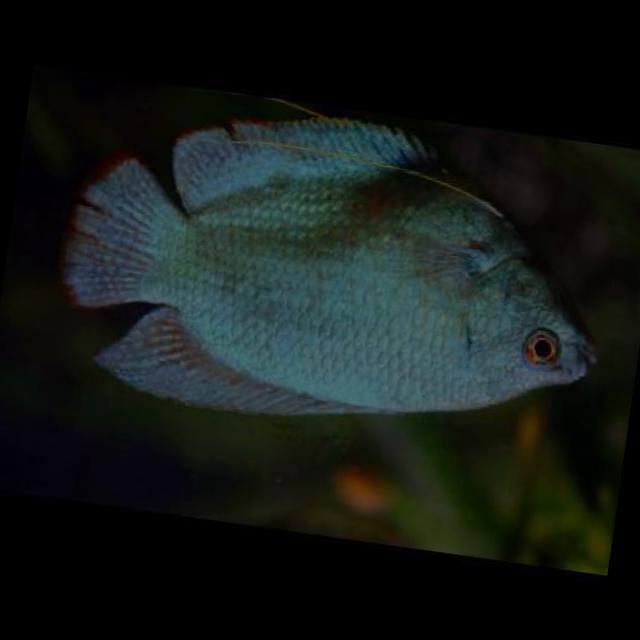Gourami: (34, 74, 628, 474)
